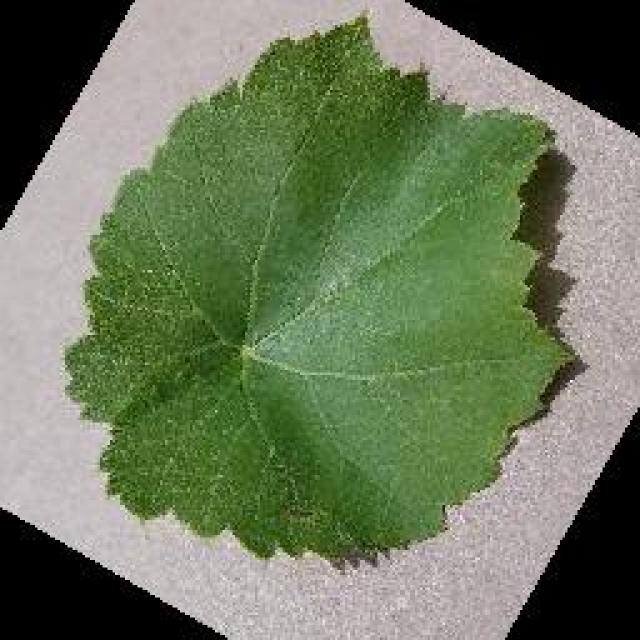Grape___healthy: (65, 18, 568, 560)
